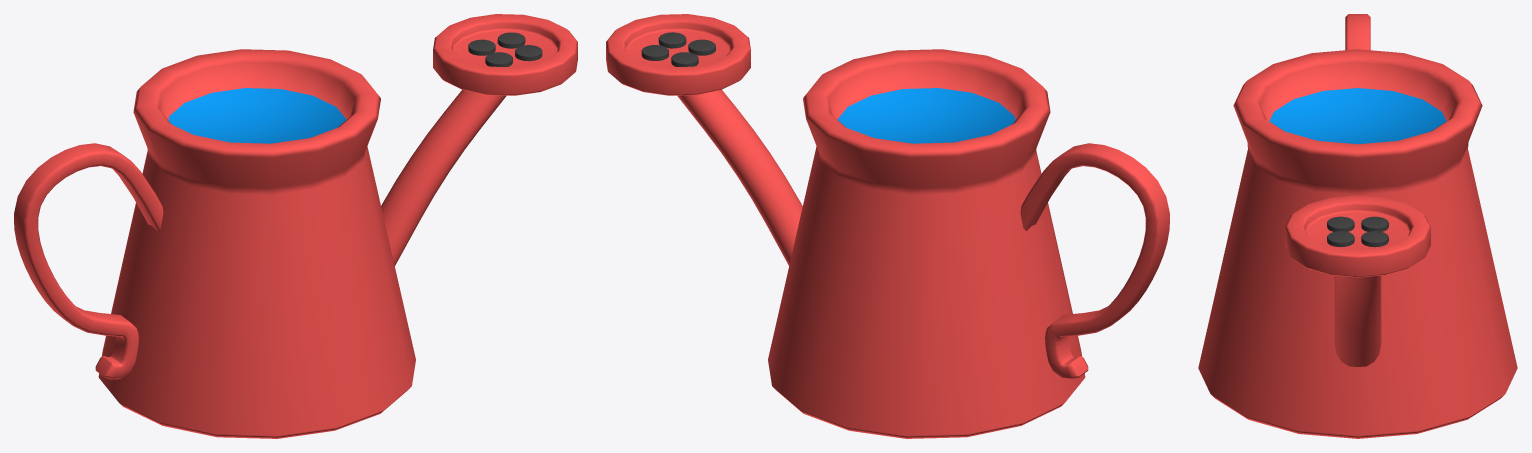
File: Farm_9_Watering_can_With_water_1.glb
The picture shows the model from 3 angles, left to right: view 1: azimuth 30°, elevation 25°; view 2: azimuth 150°, elevation 25°; view 3: azimuth 270°, elevation 25°; orthographic projection.
Parts seen in each view (by area): view 1: Farm_9_Watering_can_With_water_1; view 2: Farm_9_Watering_can_With_water_1; view 3: Farm_9_Watering_can_With_water_1.
Part boxes in pixels (left/top/right/bottom): Farm_9_Watering_can_With_water_1: left=14, top=14, right=577, bottom=438; Farm_9_Watering_can_With_water_1: left=606, top=14, right=1169, bottom=438; Farm_9_Watering_can_With_water_1: left=1198, top=14, right=1517, bottom=438.
Bounding box in the file's own units: 0.8204 × 0.3909 × 0.4137.
1 material, 1 textured.
